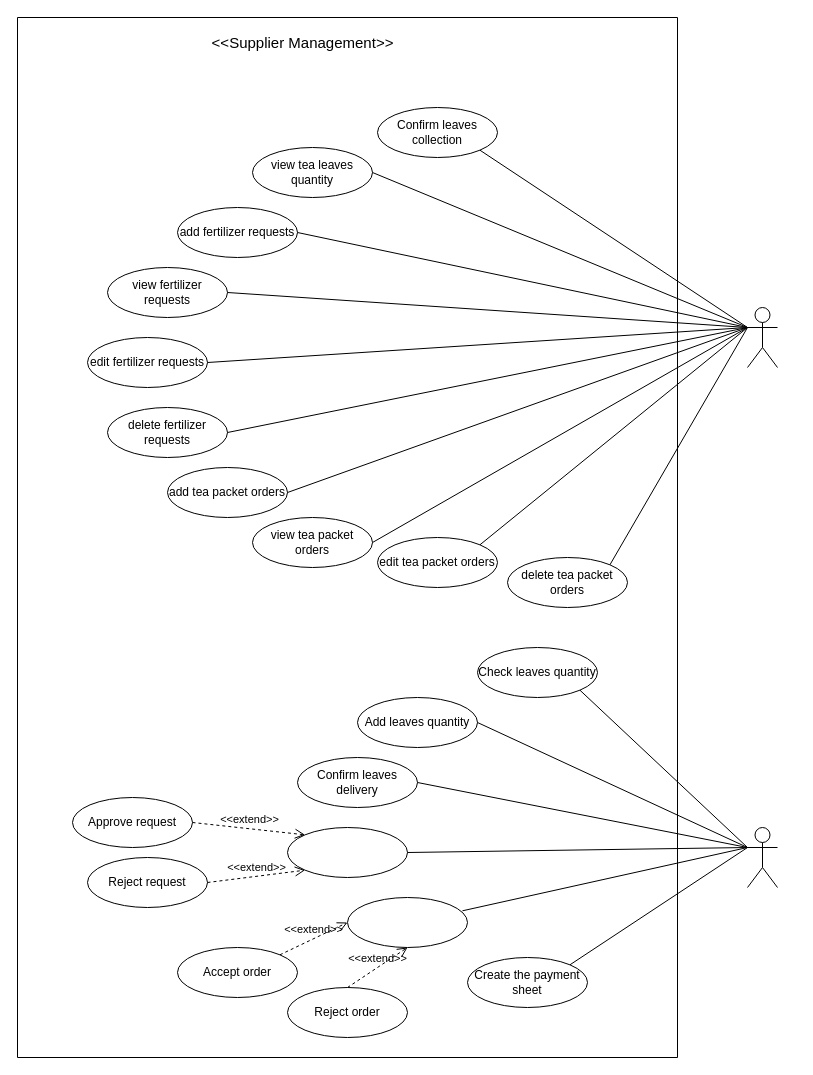
Some shapes in this 813 by 1075 pixel diagram are drawn without their labels. The shapes that lost their labels are listed below. From the top down, each one's centre as x and y in pixels, then its label:
At (x=762, y=337): "Supplier".
At (x=347, y=852): "Manage fertilizer requests".
At (x=762, y=857): "Supplement Manager".
At (x=407, y=922): "Manage orders".
